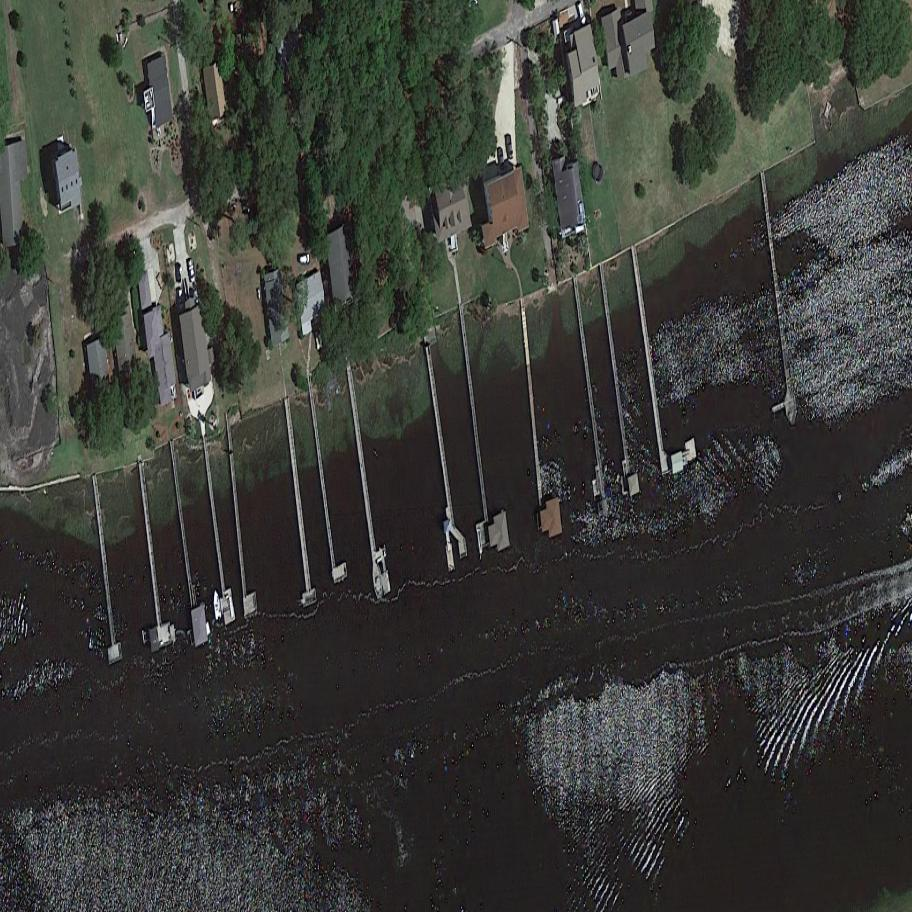ship: (212, 588, 221, 622)
small-vehicle: (504, 131, 515, 161), (576, 0, 588, 25), (186, 257, 196, 283), (297, 255, 312, 267)
